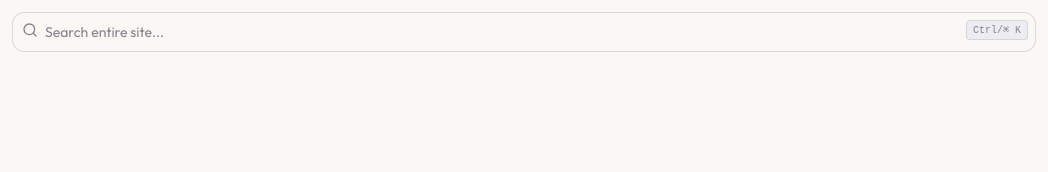
Test: SiteSearch career results › finds a role that the old hand-written list left out
In the search field labelled "Search entire site...": (524, 32) [12,12,1036,52], type "MLOps Engineer"
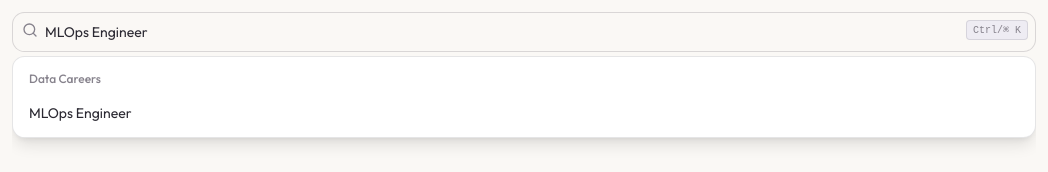
Expected: the element with test id "search-result" is shown, [29,104,132,122]
